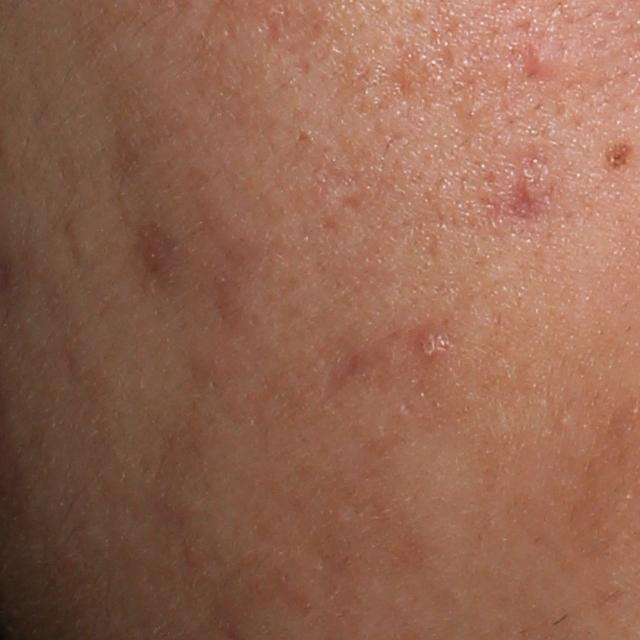atrophic_scar: (123, 201, 189, 291), (318, 345, 372, 406), (502, 173, 538, 227), (328, 189, 368, 213)
papule: (524, 43, 558, 75)
